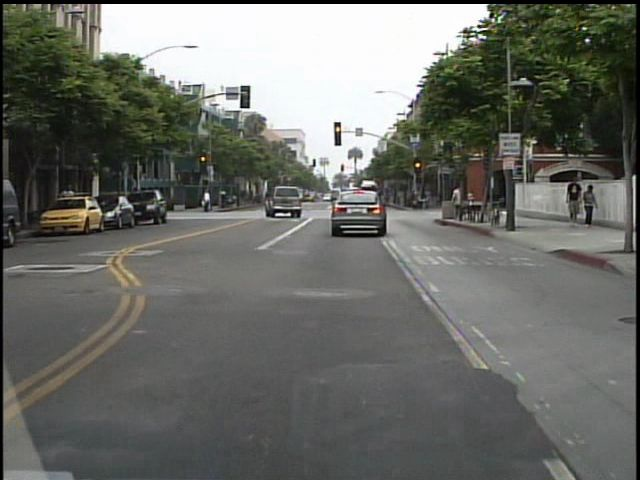person: (562, 174, 583, 229), (578, 182, 598, 231), (447, 183, 468, 224), (202, 187, 215, 215)
